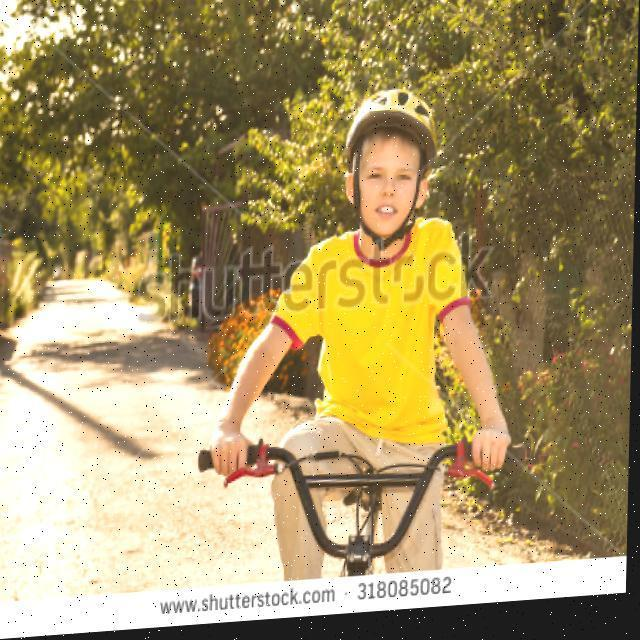Helmet: (331, 78, 442, 260)
